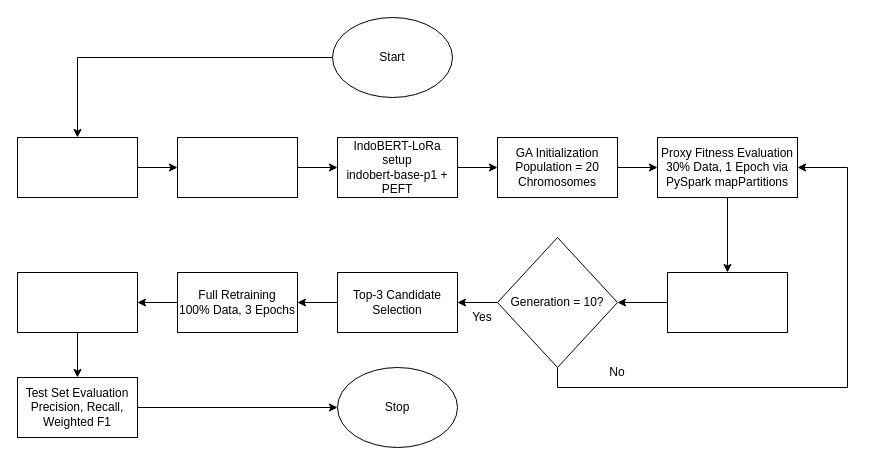
This 873x465 diagram has some shape labels left out. The centre of each missing label's shape, as x and y in pixels:
"Best Model Selection Highest Validation F1" belongs at (77,302).
"Preprocessing Cleaning, Tokenization, Padding & Truncation" belongs at (237,167).
"Raw Dataset CNBC Indonesia 9819 Headlines" belongs at (77,167).
"Selection -> Crossover -> Mutation" belongs at (727,302).
